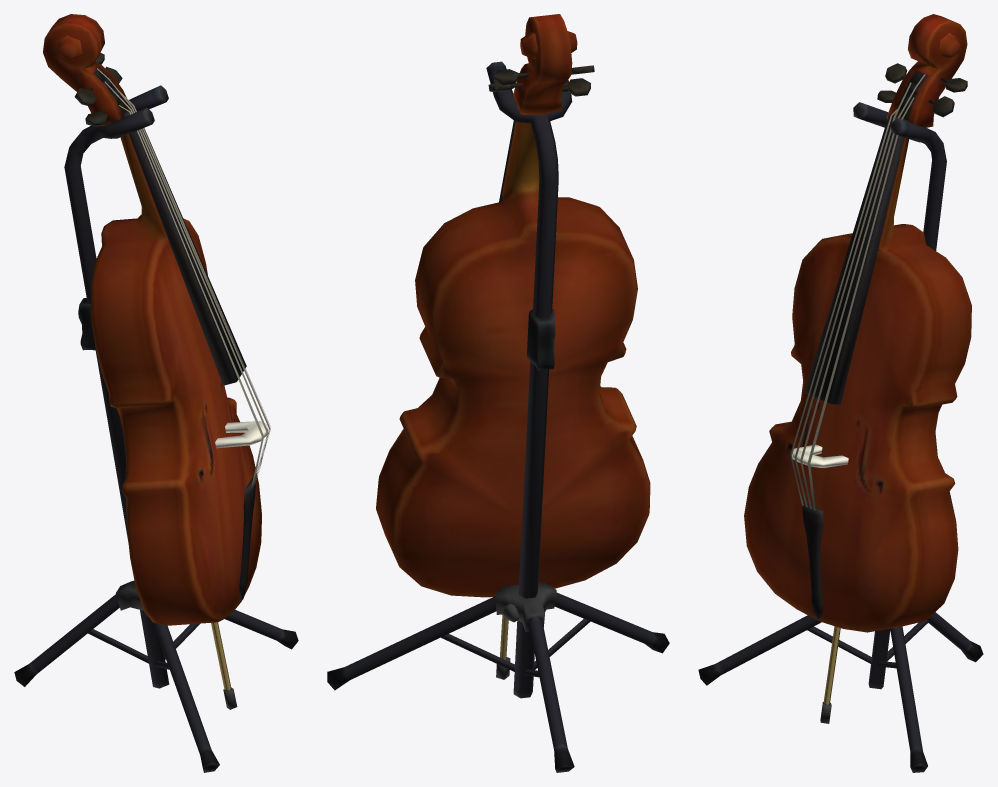
3 views of the same model, side by side, from view 1: azimuth 30°, elevation 25°; view 2: azimuth 150°, elevation 25°; view 3: azimuth 270°, elevation 25° (orthographic). The views are drawn at different scales.
Bounding box in the file's own units: 6.35 × 16.08 × 6.34.
Materials: 2 (2 with a texture image).
